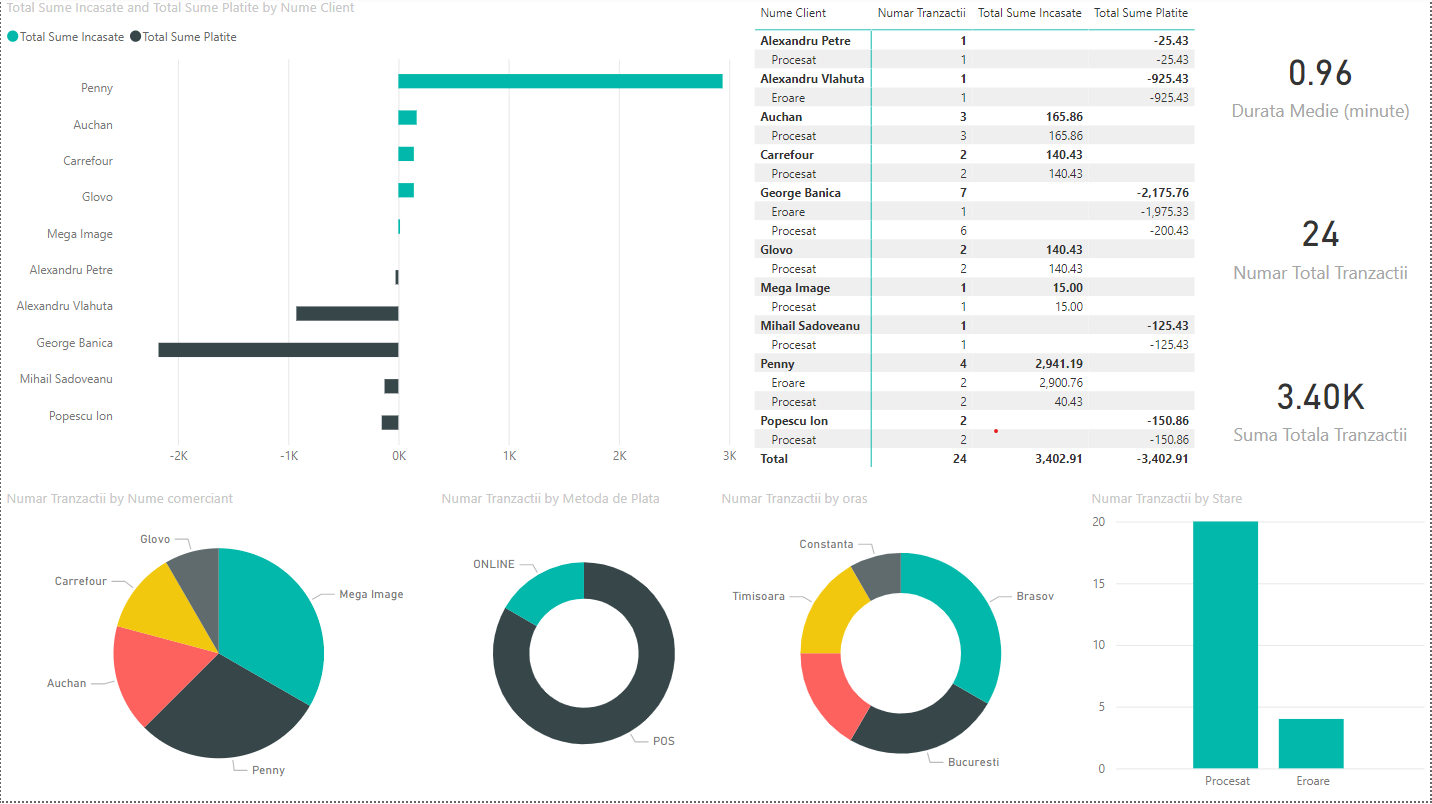

The page's visual inventory and layout, read from the dashboard file:
{"tool":"powerbi","page":{"name":"Main","canvas":[1280,720],"ordinal":0},"visuals":[{"type":"clusteredBarChart","fields":{"Category":["dim_client.nume"],"Y":["fact_tranzactii.Total Sume Incasate","fact_tranzactii.Total Sume Platite"]},"box":[0,0,662.7,429],"z":0},{"type":"pieChart","fields":{"Category":["dim_comerciant.nume"],"Y":["fact_tranzactii.Numar Tranzactii"]},"box":[0,439.7,389.6,280.3],"z":1000},{"type":"card","fields":{"Values":["fact_tranzactii.Numar Tranzactii"]},"box":[1083.6,149.6,196.1,139.7],"z":2000},{"type":"card","fields":{"Values":["fact_tranzactii.Total Sume Incasate"]},"box":[1083.6,290.1,196.1,149.6],"z":3000},{"type":"donutChart","fields":{"Category":["dim_canal_plata.tip_canal_plata"],"Y":["fact_tranzactii.Numar Tranzactii"]},"box":[389.6,439.7,265.1,280.3],"z":4000},{"type":"donutChart","fields":{"Y":["fact_tranzactii.Numar Tranzactii"],"Category":["dim_locatie.oras"]},"box":[640.3,439.7,331.3,280.3],"z":5000},{"type":"clusteredColumnChart","fields":{"Category":["dim_stare.stare"],"Y":["fact_tranzactii.Numar Tranzactii"]},"box":[971.6,439.7,308.1,280.3],"z":6000},{"type":"pivotTable","fields":{"Values":["fact_tranzactii.Numar Tranzactii","fact_tranzactii.Total Sume Incasate","fact_tranzactii.Total Sume Platite"],"Rows":["dim_client.nume","dim_stare.stare"]},"box":[669.9,0,413.7,429],"z":7000},{"type":"card","fields":{"Values":["fact_tranzactii.Durata Medie De Solutionare"]},"box":[1083.6,0,196.1,149.6],"z":7001}]}

Visuals, with their boxes in screenshot pixels (x1, y1, x2, y2), scaled from the page's 1280x720 canvas onto the 1432x804 screenshot:
clusteredBarChart - dim_client.nume x fact_tranzactii.Total Sume Incasate: bbox(0, 0, 741, 479)
pieChart - dim_comerciant.nume x fact_tranzactii.Numar Tranzactii: bbox(0, 491, 436, 803)
card - fact_tranzactii.Numar Tranzactii: bbox(1212, 167, 1431, 323)
card - fact_tranzactii.Total Sume Incasate: bbox(1212, 324, 1431, 491)
donutChart - dim_canal_plata.tip_canal_plata x fact_tranzactii.Numar Tranzactii: bbox(436, 491, 732, 803)
donutChart - fact_tranzactii.Numar Tranzactii x dim_locatie.oras: bbox(716, 491, 1087, 803)
clusteredColumnChart - dim_stare.stare x fact_tranzactii.Numar Tranzactii: bbox(1087, 491, 1431, 803)
pivotTable - fact_tranzactii.Numar Tranzactii x fact_tranzactii.Total Sume Incasate: bbox(749, 0, 1212, 479)
card - fact_tranzactii.Durata Medie De Solutionare: bbox(1212, 0, 1431, 167)
